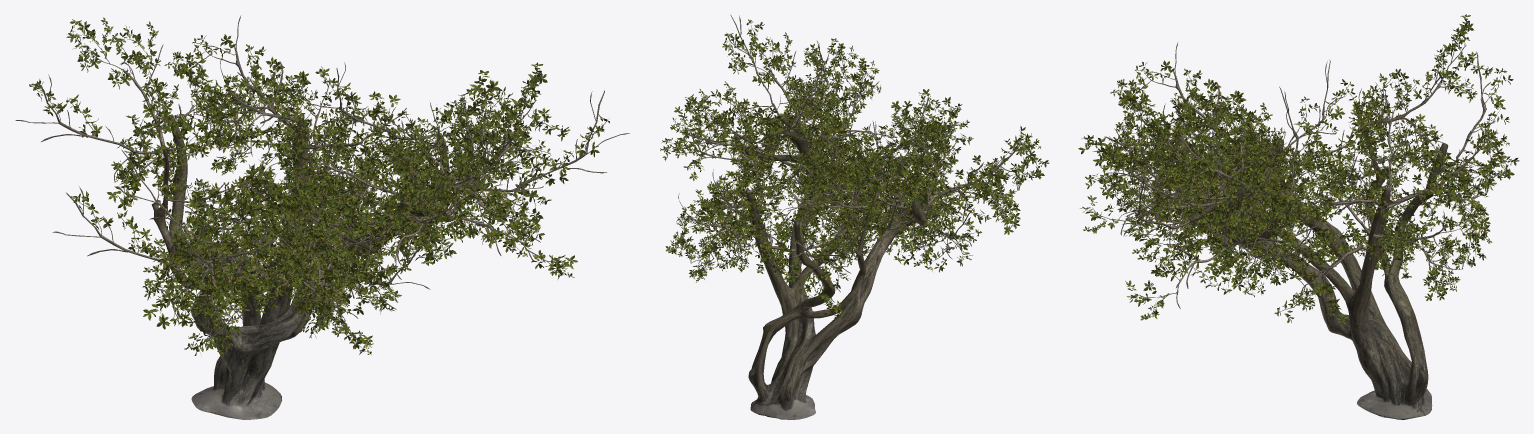
File: tree.glb
3 views of the same model, side by side, from view 1: azimuth 30°, elevation 25°; view 2: azimuth 150°, elevation 25°; view 3: azimuth 270°, elevation 25° (orthographic). The views are drawn at different scales.
Parts seen in each view (by area): view 1: island_tree_02_LOD0; view 2: island_tree_02_LOD0; view 3: island_tree_02_LOD0.
Boxes of the visible parts, bbox=[...] form: island_tree_02_LOD0: bbox=[15, 15, 629, 419]; island_tree_02_LOD0: bbox=[660, 14, 1049, 419]; island_tree_02_LOD0: bbox=[1078, 14, 1519, 419].
Bounding box in the file's own units: 4.21 × 3.41 × 4.07.
Materials: 3 (3 with a texture image).
